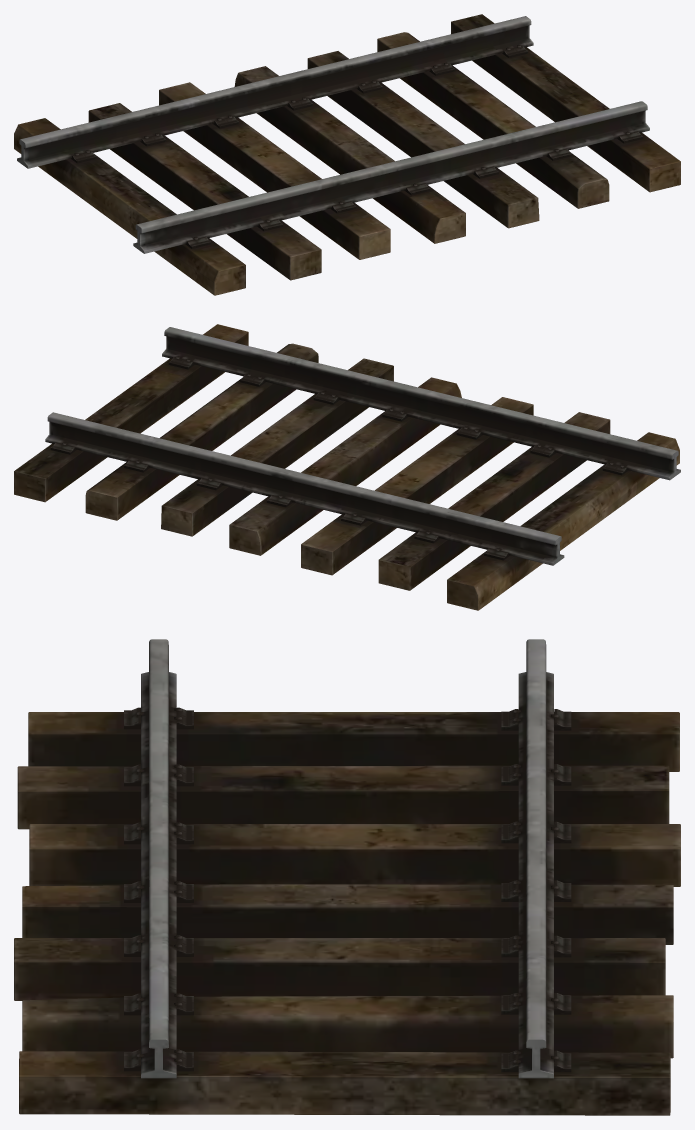
Rendered from railway.glb.
The picture shows the model from 3 angles, top to bottom: view 1: azimuth 30°, elevation 25°; view 2: azimuth 150°, elevation 25°; view 3: azimuth 270°, elevation 25°; orthographic projection. The views are drawn at different scales.
Visible parts, largest first — view 1: railroad_gav_railroad_gav_0; view 2: railroad_gav_railroad_gav_0; view 3: railroad_gav_railroad_gav_0.
Boxes of the visible parts, box(x1,y1,x2,y2) form: railroad_gav_railroad_gav_0: box(14, 14, 680, 295); railroad_gav_railroad_gav_0: box(14, 324, 680, 610); railroad_gav_railroad_gav_0: box(14, 639, 680, 1115).
Bounding box in the file's own units: 4 × 0.3716 × 2.82.
1 material, 1 textured.
